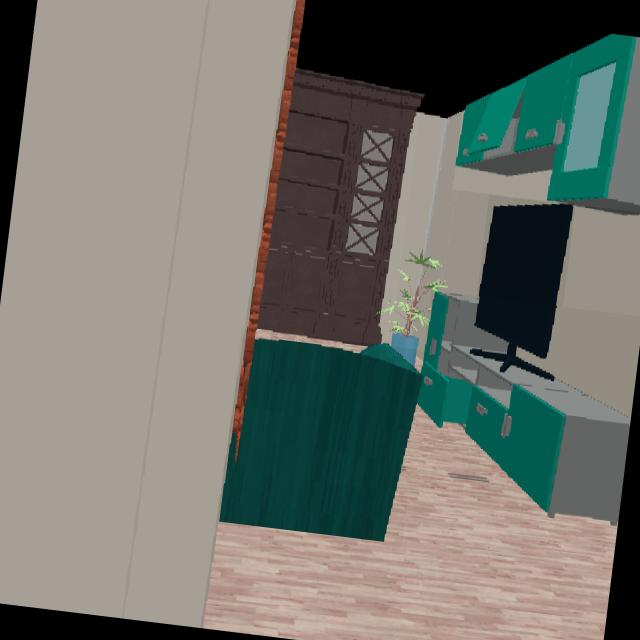bookshelf: (255, 68, 421, 349)
cabinet: (417, 291, 630, 520), (455, 33, 640, 207)
monitor: (470, 204, 574, 382)
sofa: (218, 337, 421, 543)
